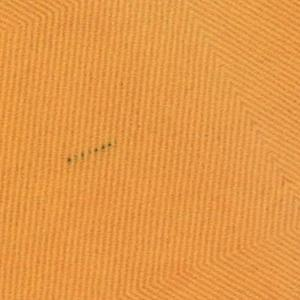stain: (65, 138, 119, 172)
